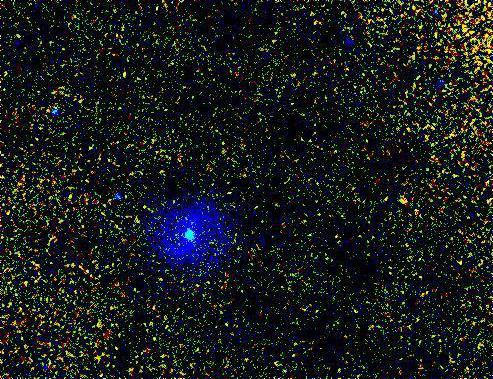star: (388, 187, 418, 217)
